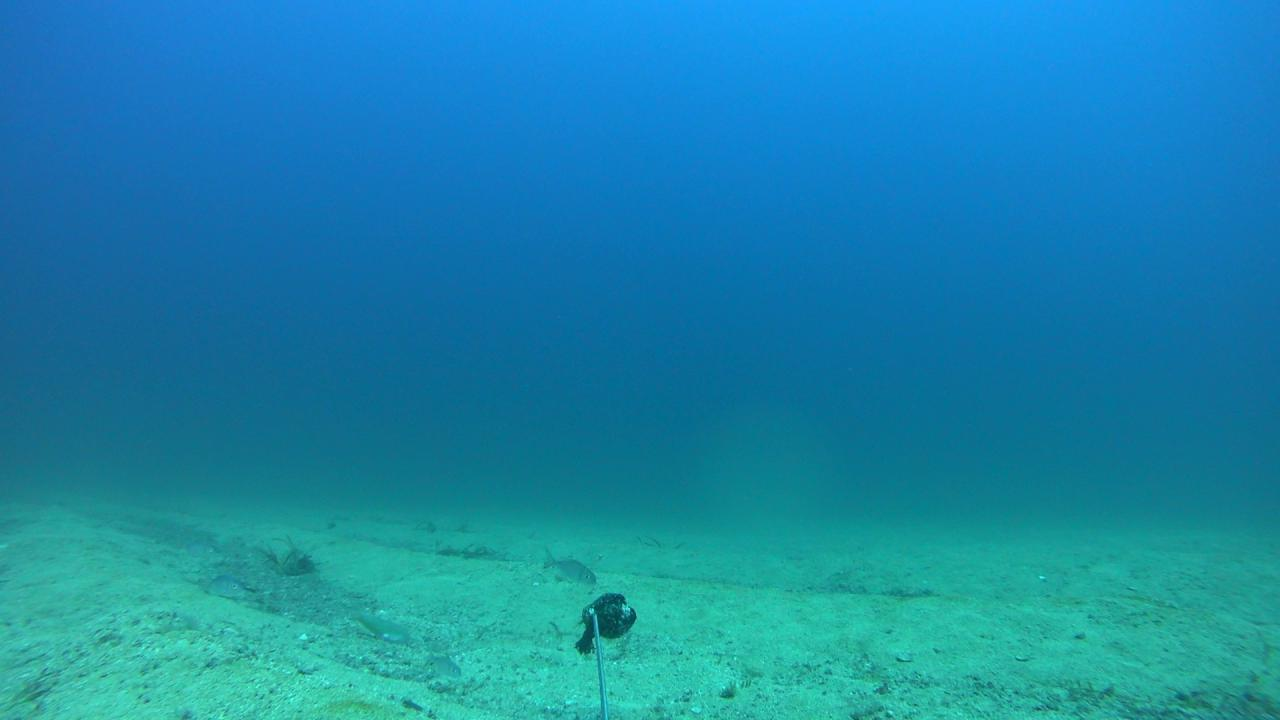pagellus: (541, 549, 597, 587), (194, 575, 248, 598), (425, 648, 462, 677)
